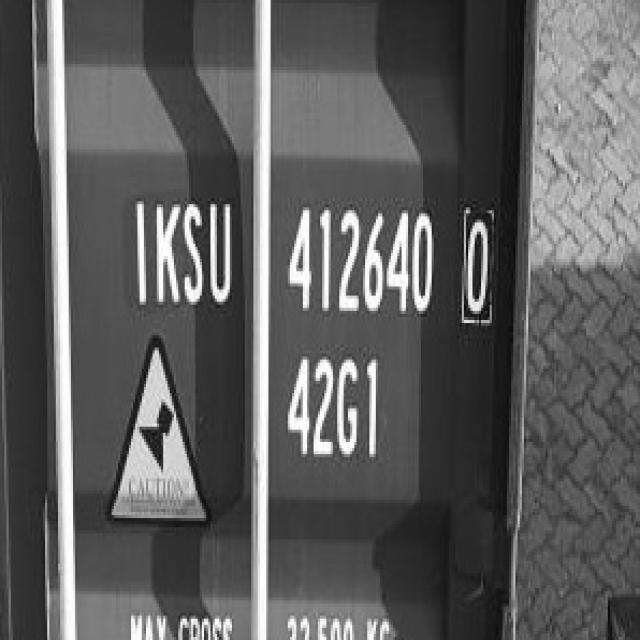dv: (450, 194, 500, 337)
owner: (128, 186, 238, 314)
serial: (284, 190, 436, 330)
size: (284, 349, 389, 480)
